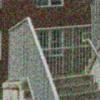stairs: (17, 73, 100, 100)
